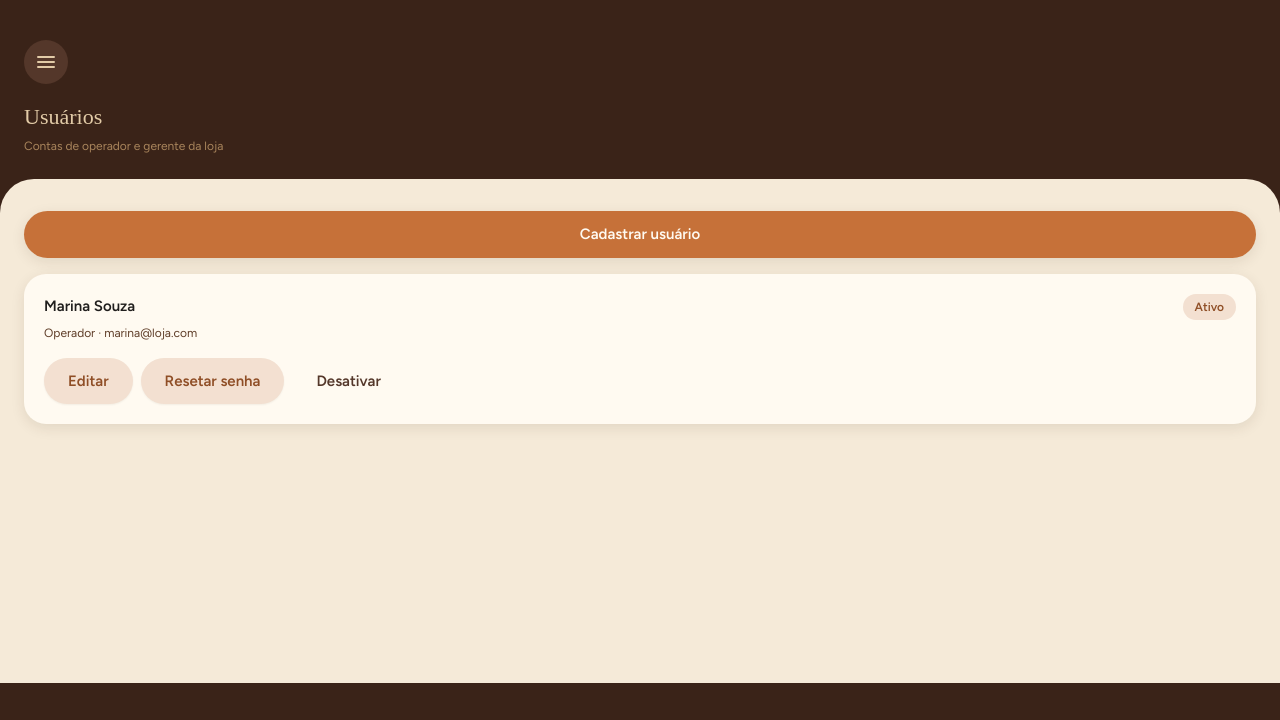
Test case: UsersScreen › desativa um usuário depois da confirmação e recarrega a lista
The width and height of the screenshot is (1280, 720).
Check: the text "Marina Souza" is shown, box [44,294,135,317]
Step 1. Click the button "Desativar" → point(349, 381), box [292,358,405,404]
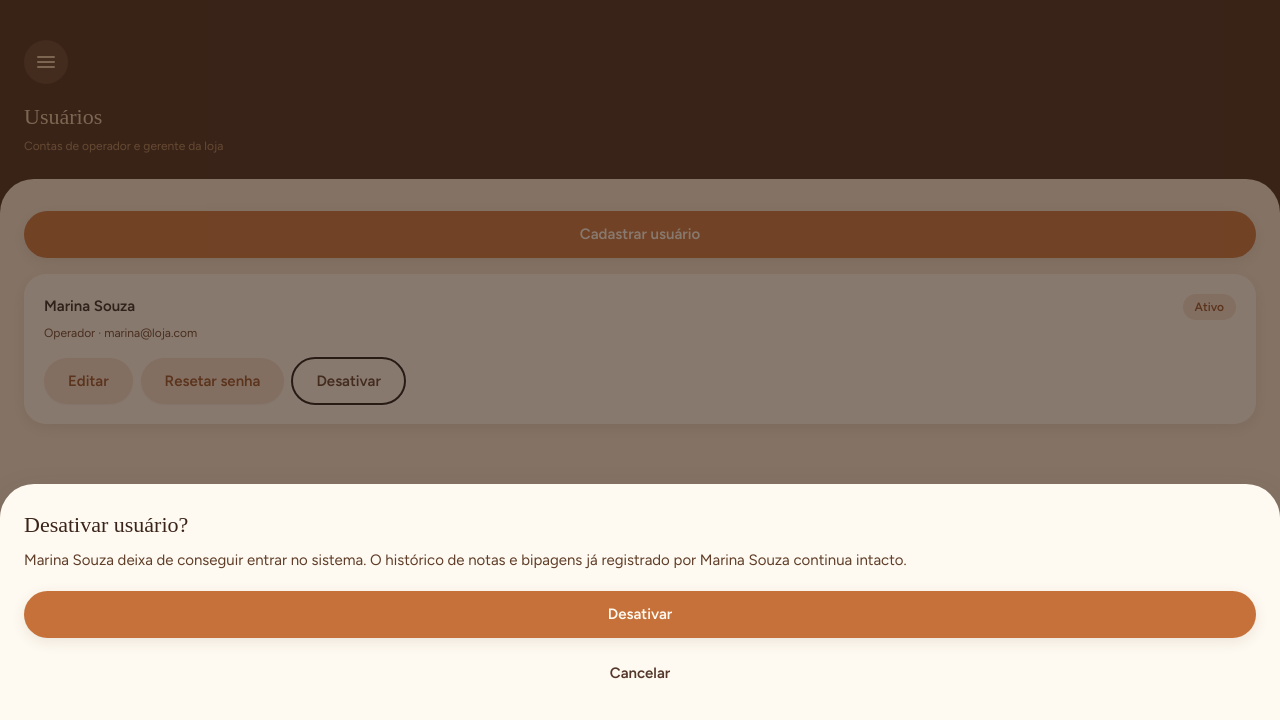
Step 2. Click the button "Desativar" → point(640, 614), box [24,591,1256,638]
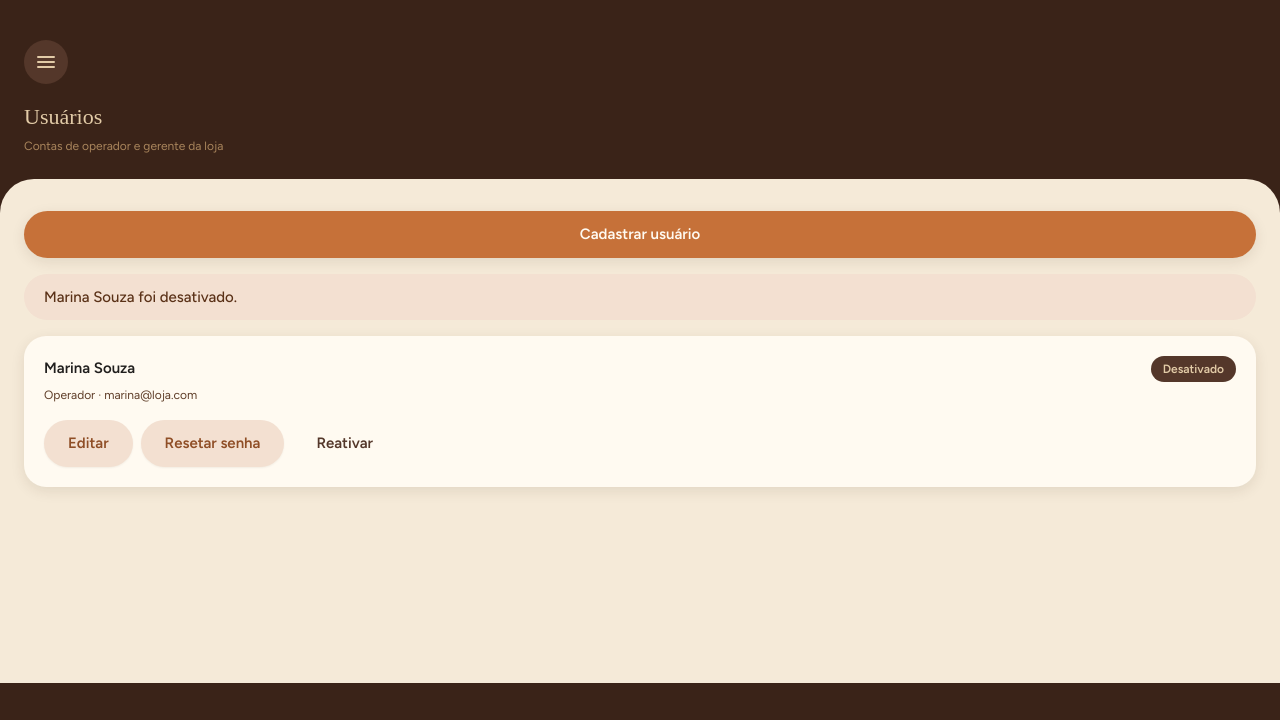
Check: the text "Desativado" is shown, box [1151,356,1236,382]
